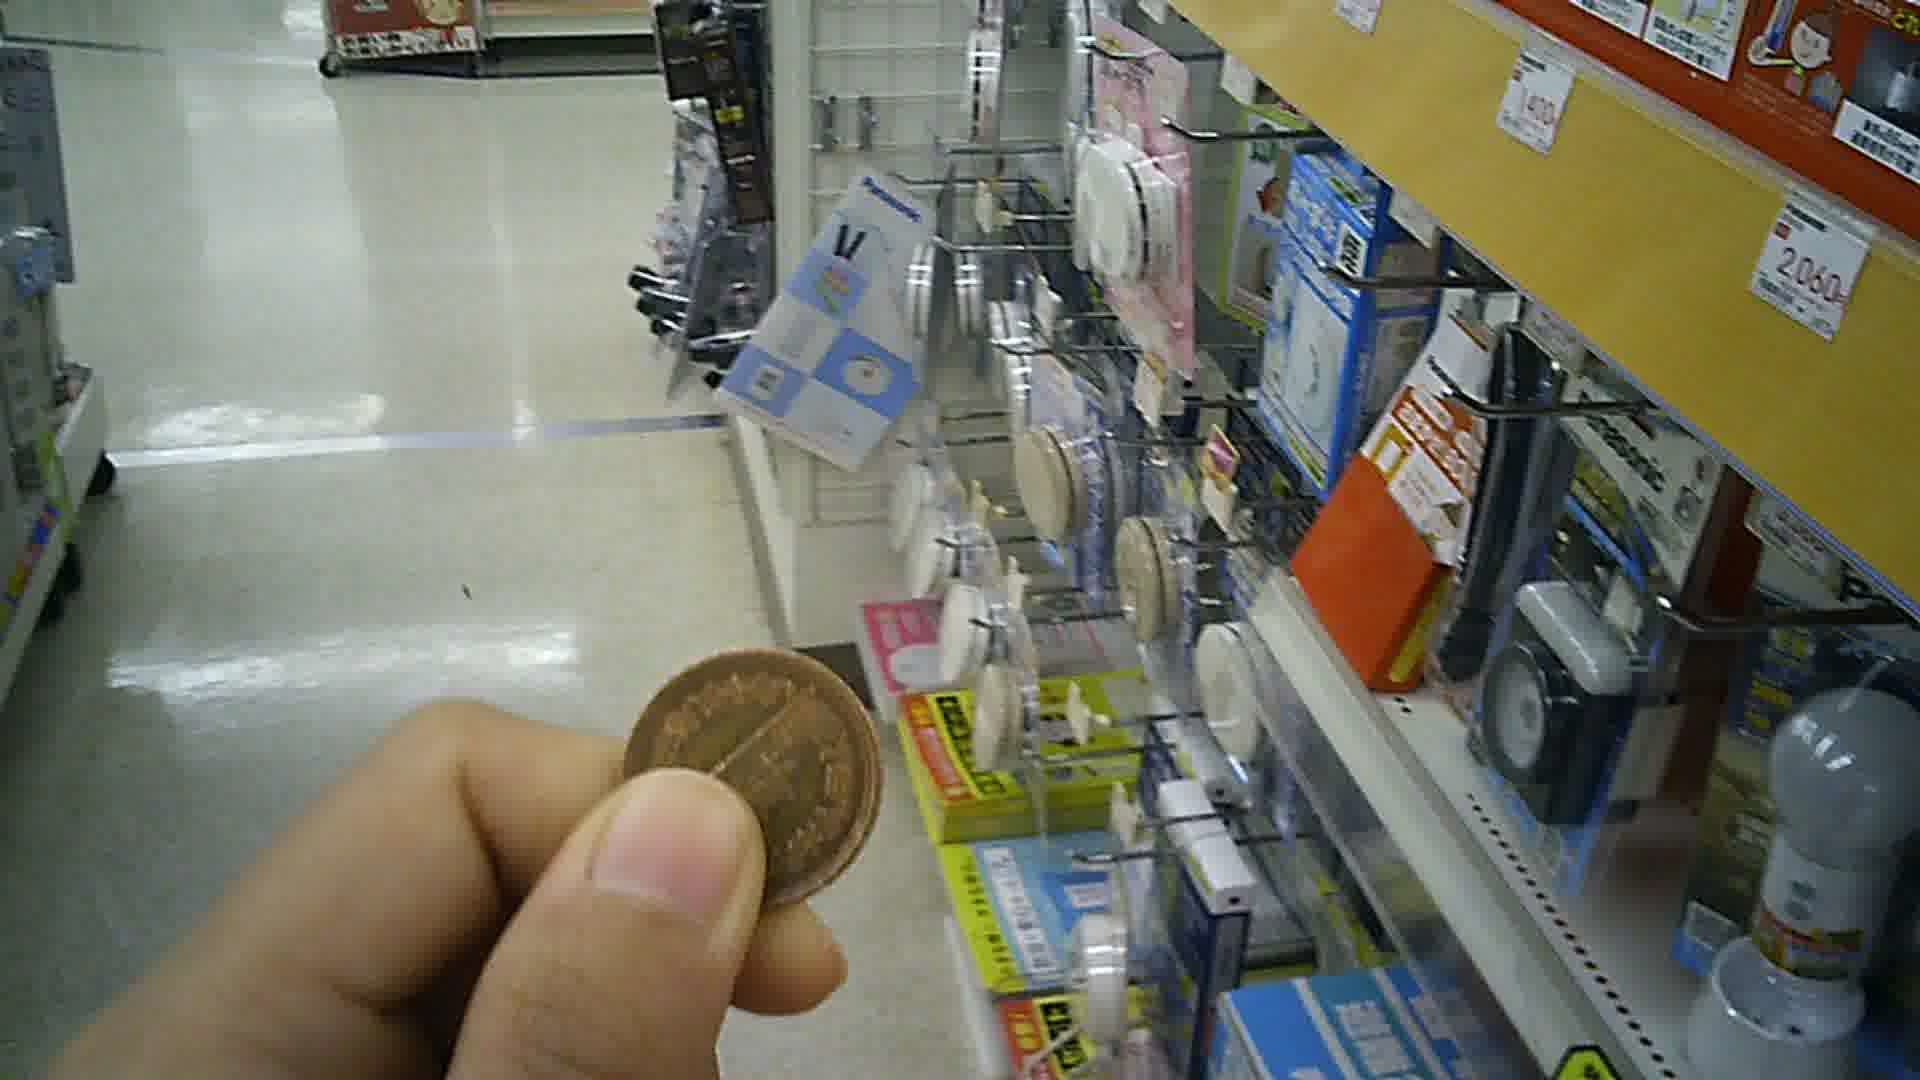10 Yen: (613, 640, 884, 907)
